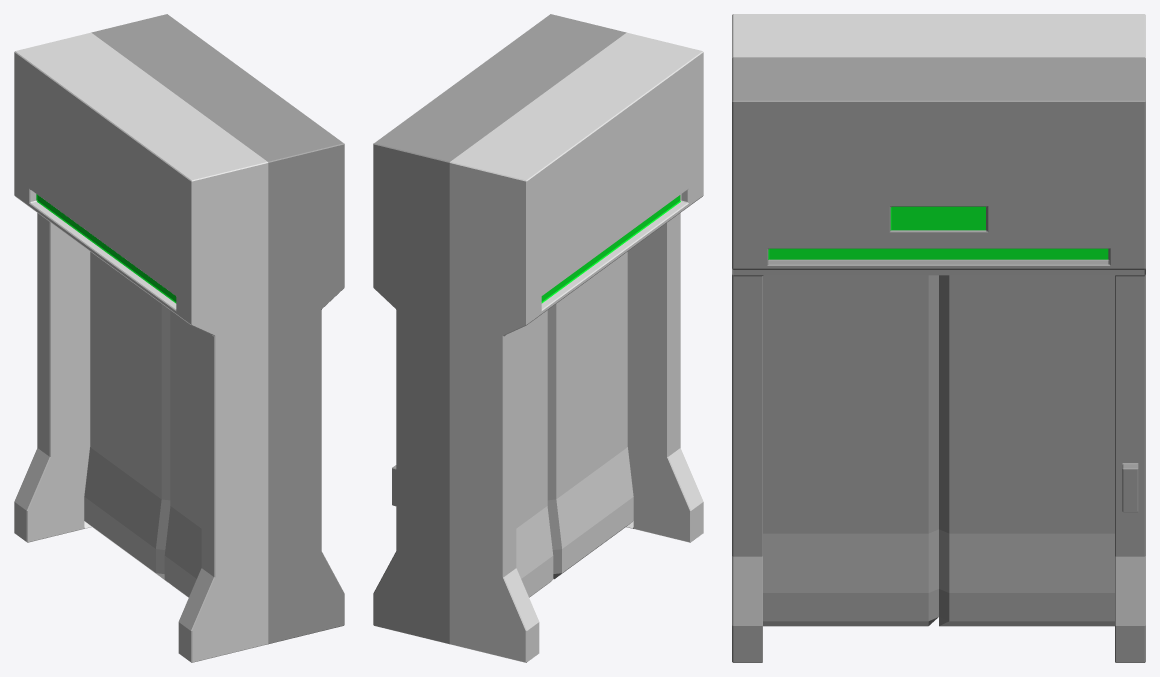
The model's file is Ascenseur.fbx.
3 views of the same model, side by side, from view 1: azimuth 30°, elevation 25°; view 2: azimuth 150°, elevation 25°; view 3: azimuth 270°, elevation 25° (orthographic). The views are drawn at different scales.
Visible parts, largest first — view 1: Ascenseur, Porte1, Porte2; view 2: Ascenseur, Porte2, Porte1; view 3: Ascenseur, Porte1, Porte2.
Boxes of the visible parts, x1=… form: Ascenseur: x1=14, y1=14, x2=344, y2=662; Porte1: x1=84, y1=252, x2=170, y2=582; Porte2: x1=164, y1=310, x2=201, y2=597; Ascenseur: x1=373, y1=14, x2=703, y2=662; Porte2: x1=547, y1=252, x2=633, y2=579; Porte1: x1=516, y1=310, x2=553, y2=597; Ascenseur: x1=732, y1=14, x2=1145, y2=662; Porte1: x1=939, y1=275, x2=1114, y2=626; Porte2: x1=763, y1=275, x2=938, y2=626.
Size of the model in its own units: 200 by 600 by 400.
